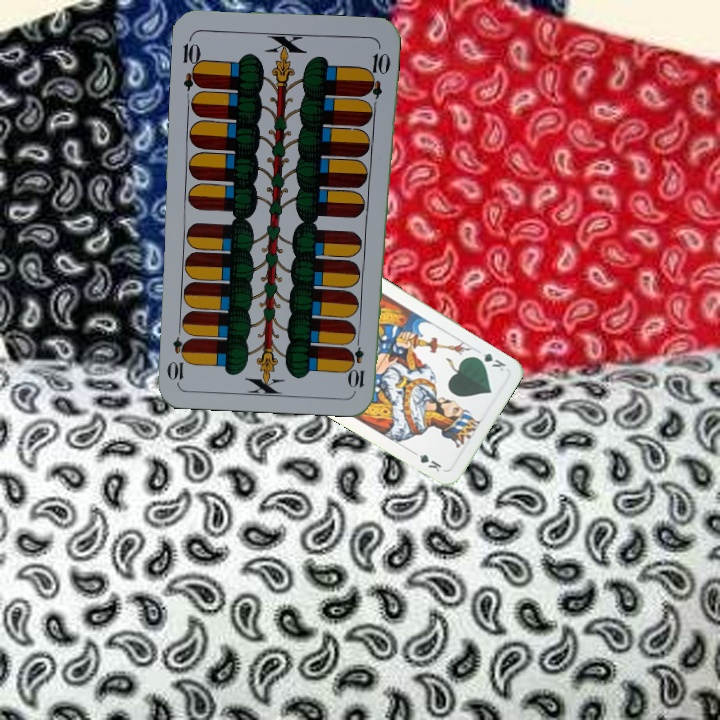E10: (179, 33, 205, 92), (348, 331, 367, 390)
GK: (470, 347, 509, 374)
